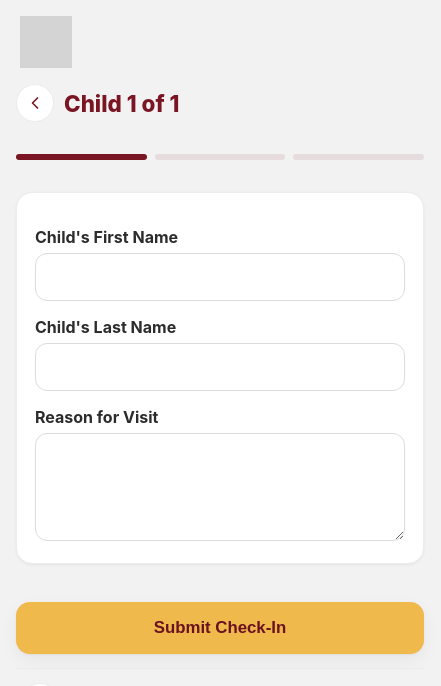
ChildPage › shows queue full error from backend on submit
Type "Amy" into the field labelled "Child's First Name" at (220, 277), box [35,253,405,301]
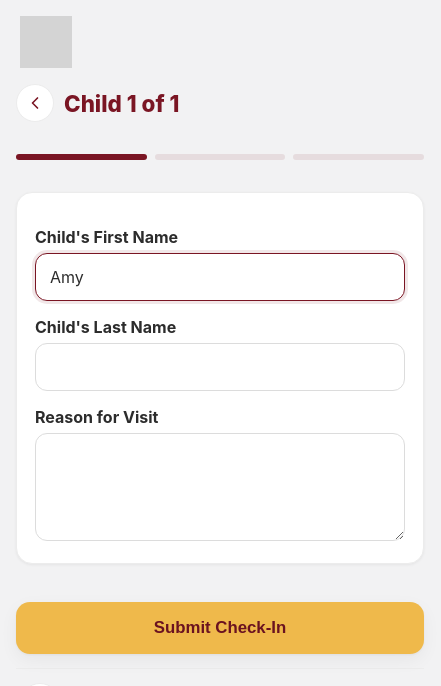
Type "Doe" into the field labelled "Child's Last Name" at (220, 367), box [35,343,405,391]
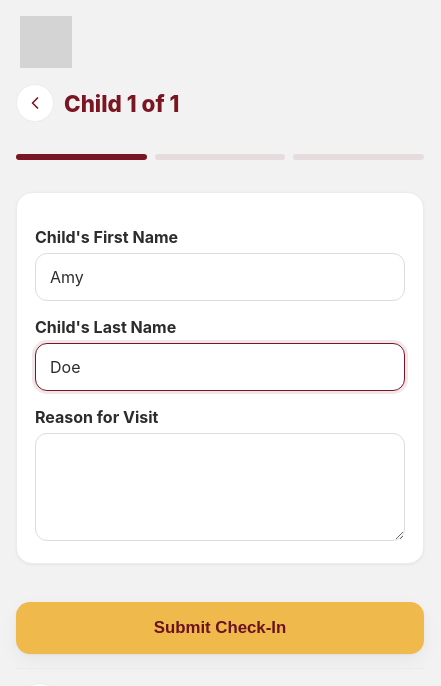
Type "Fever" into the text box labelled "Reason for Visit" at (220, 487), box [35,433,405,541]
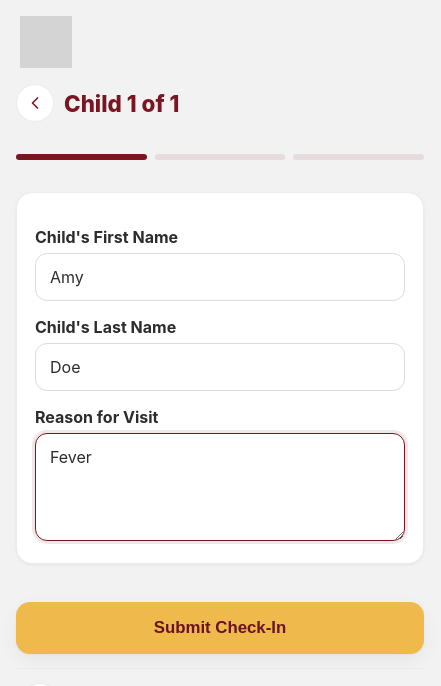
Click the button "Submit Check-In" at (220, 628), box [16,602,424,654]
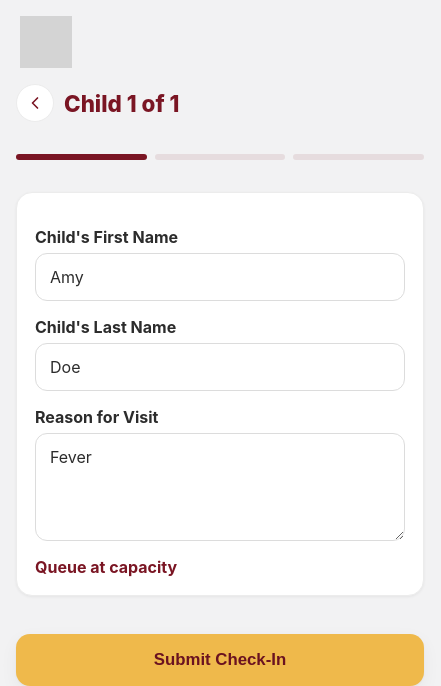
Expected: the text "Queue at capacity" is shown, [35,557,177,577]
